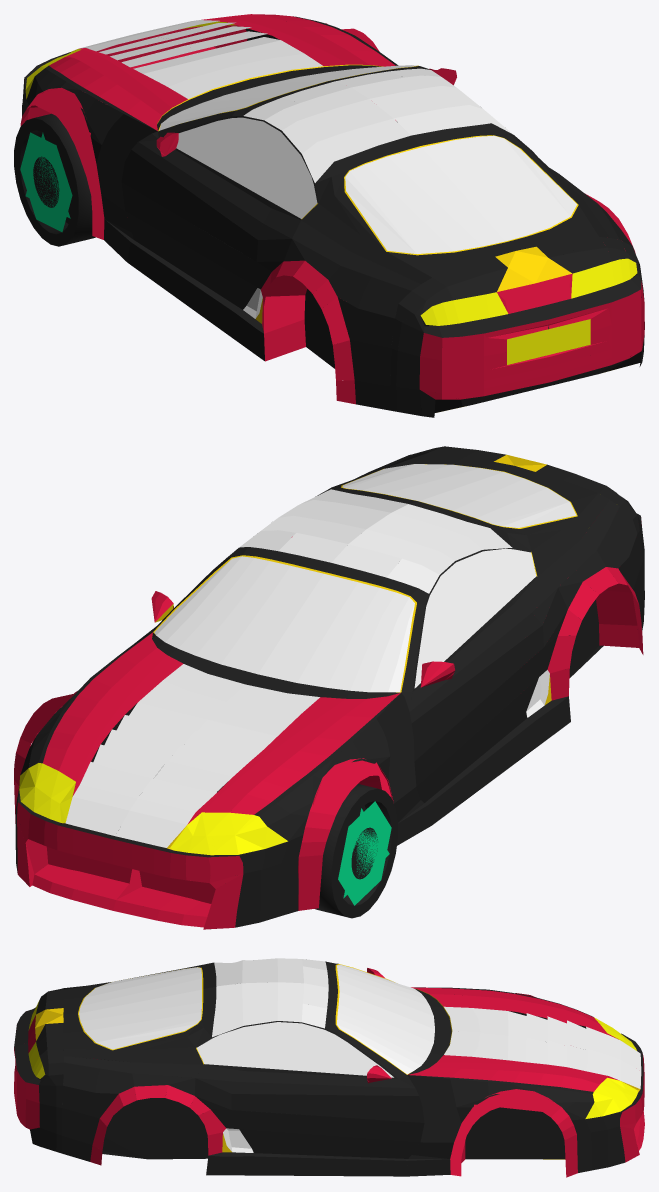
File: car1.glb
3 views of the same model, one above another, from view 1: azimuth 30°, elevation 25°; view 2: azimuth 150°, elevation 25°; view 3: azimuth 270°, elevation 25° (orthographic). The views are drawn at different scales.
Parts seen in each view (by area): view 1: Chassis, Tire; view 2: Chassis, Tire; view 3: Chassis.
Part boxes in pixels (<box>): Chassis: <box>20,14,644,417</box>; Tire: <box>14,113,95,246</box>; Chassis: <box>14,446,644,929</box>; Tire: <box>315,784,397,918</box>; Chassis: <box>14,958,644,1177</box>.
Size of the model in its own units: 2.23 by 1.49 by 5.25.
